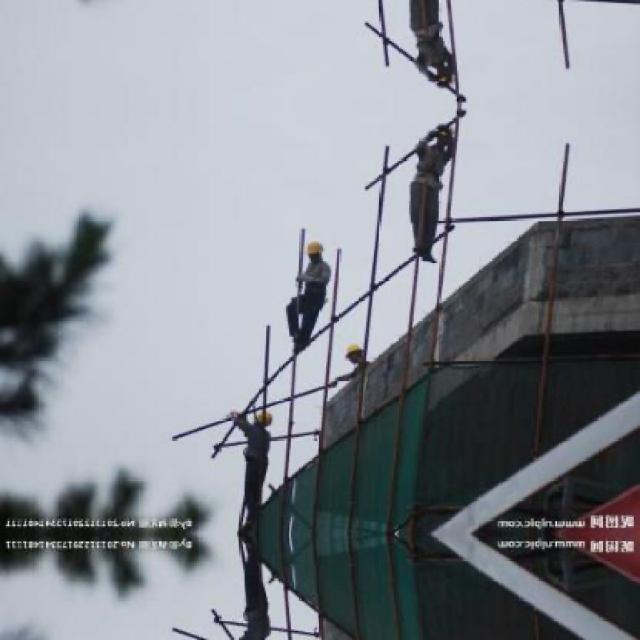helmet: (346, 340, 371, 365), (304, 235, 324, 263), (252, 408, 274, 428)
